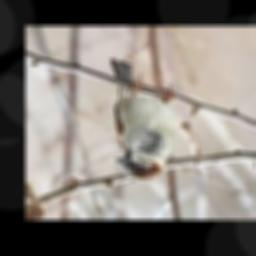Sparrow: (110, 59, 177, 182)
